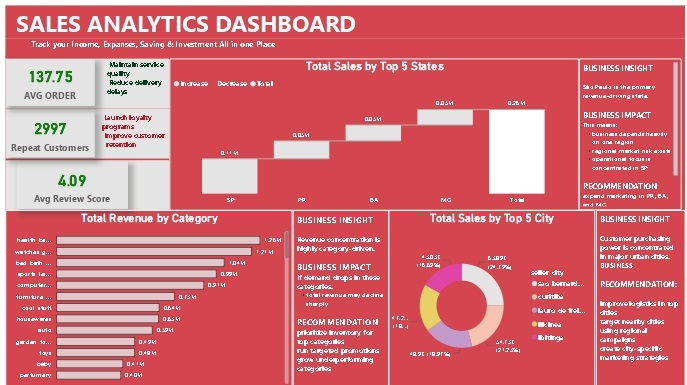

Layout of this report page (visuals, bound fields, positions):
{"tool":"powerbi","page":{"name":"Sales Analytics","canvas":[1280,720],"ordinal":1},"visuals":[{"type":"shape","box":[0,94.5,1279.4,625.5],"z":0},{"type":"shape","box":[0,0,1279.4,62.4],"z":1000},{"type":"shape","box":[0,62.4,1279.4,35.9],"z":2000},{"type":"shape","box":[0,100.2,308,94.5],"z":3000},{"type":"shape","box":[0,194.6,308,94.5],"z":4000},{"type":"shape","box":[0,291,308,94.5],"z":5000},{"type":"card","fields":{"Values":["DateTable.AVG ORDER"]},"box":[0,100.2,168.2,88.8],"z":6000},{"type":"card","fields":{"Values":["DateTable.Repeat Customers"]},"box":[0,198.4,168.2,88.8],"z":7000},{"type":"card","fields":{"Values":["DateTable.Avg Review Score"]},"box":[20.8,292.9,209.8,88.8],"z":8000},{"type":"textbox","box":[281.6,113.4,71.8,83.2],"z":9000},{"type":"textbox","box":[272.1,209.8,71.8,83.2],"z":10000},{"type":"textbox","box":[281.6,311.8,71.8,83.2],"z":11000},{"type":"textbox","box":[272.1,402.5,71.8,83.2],"z":12000},{"type":"textbox","box":[272.1,606.6,71.8,83.2],"z":13000},{"type":"textbox","box":[272.1,495.1,81.3,83.2],"z":14000},{"type":"barChart","title":"Total Revenue by Category","fields":{"Category":["Product Category.Product_category_name_english"],"Y":["Measure Table.Total Revenue"]},"box":[0,385.5,540.5,334.5],"z":15000},{"type":"donutChart","title":"Total Sales by Top 5 City","fields":{"Category":["olist_sellers_dataset.seller_city"],"Y":["Measure Table.Total Revenue"]},"box":[721.9,385.5,389.3,334.5],"z":16000},{"type":"waterfallChart","title":"Total Sales by Top 5 States","fields":{"Category":["olist_sellers_dataset.seller_state"],"Y":["Measure Table.Total Revenue"]},"box":[307.7,100,770.8,286.2],"z":17000},{"type":"textbox","box":[1217,94.5,62.4,60.5],"z":18000},{"type":"textbox","box":[878.7,512.1,62.4,60.5],"z":19000},{"type":"textbox","box":[867.4,298.6,88.8,60.5],"z":20000},{"type":"textbox","box":[1217,292.9,62.4,60.5],"z":21000},{"type":"textbox","box":[1262.4,302.4,17,60.5],"z":22000},{"type":"textbox","box":[1217,506.5,62.4,60.5],"z":23000},{"type":"textbox","box":[540.5,546.1,223,102],"z":24000},{"type":"textbox","box":[1079.1,100.2,192.8,285.4],"z":25000},{"type":"textbox","box":[540.5,385.5,181.4,334.5],"z":26000},{"type":"textbox","box":[1111.2,385.5,168.2,334.5],"z":27000},{"type":"textbox","box":[185,98,128,85],"z":28000},{"type":"textbox","box":[177.6,196.5,228.7,94.5],"z":29000}]}

Visuals, with their boxes in screenshot pixels (x1, y1, x2, y2), scaled from the page's 1280x720 canvas onto the 687x385 screenshot:
shape: [x1=0, y1=51, x2=686, y2=384]
shape: [x1=0, y1=0, x2=686, y2=33]
shape: [x1=0, y1=33, x2=686, y2=53]
shape: [x1=0, y1=54, x2=165, y2=104]
shape: [x1=0, y1=104, x2=165, y2=155]
shape: [x1=0, y1=156, x2=165, y2=206]
card - DateTable.AVG ORDER: [x1=0, y1=54, x2=90, y2=101]
card - DateTable.Repeat Customers: [x1=0, y1=106, x2=90, y2=154]
card - DateTable.Avg Review Score: [x1=11, y1=157, x2=124, y2=204]
textbox: [x1=151, y1=61, x2=190, y2=105]
textbox: [x1=146, y1=112, x2=185, y2=157]
textbox: [x1=151, y1=167, x2=190, y2=211]
textbox: [x1=146, y1=215, x2=185, y2=260]
textbox: [x1=146, y1=324, x2=185, y2=369]
textbox: [x1=146, y1=265, x2=190, y2=309]
"Total Revenue by Category" barChart: [x1=0, y1=206, x2=290, y2=384]
"Total Sales by Top 5 City" donutChart: [x1=387, y1=206, x2=596, y2=384]
"Total Sales by Top 5 States" waterfallChart: [x1=165, y1=53, x2=579, y2=207]
textbox: [x1=653, y1=51, x2=686, y2=83]
textbox: [x1=472, y1=274, x2=505, y2=306]
textbox: [x1=466, y1=160, x2=513, y2=192]
textbox: [x1=653, y1=157, x2=686, y2=189]
textbox: [x1=678, y1=162, x2=686, y2=194]
textbox: [x1=653, y1=271, x2=686, y2=303]
textbox: [x1=290, y1=292, x2=410, y2=347]
textbox: [x1=579, y1=54, x2=683, y2=206]
textbox: [x1=290, y1=206, x2=387, y2=384]
textbox: [x1=596, y1=206, x2=686, y2=384]
textbox: [x1=99, y1=52, x2=168, y2=98]
textbox: [x1=95, y1=105, x2=218, y2=156]
